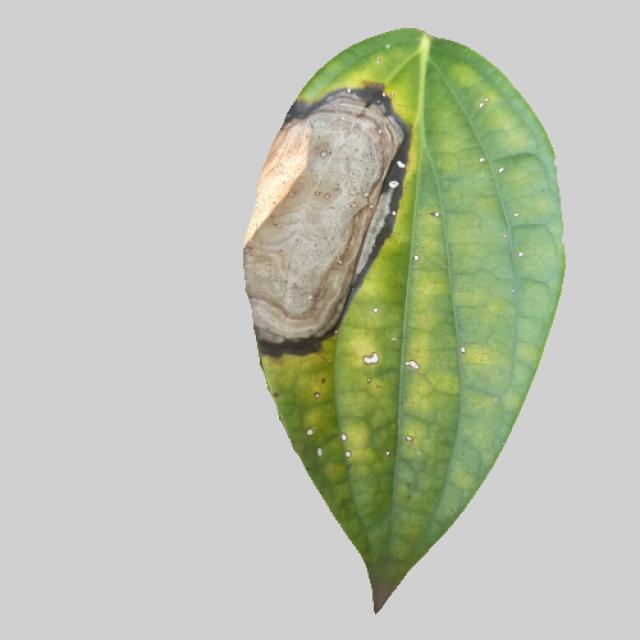leaf-blight: (228, 41, 571, 616)
